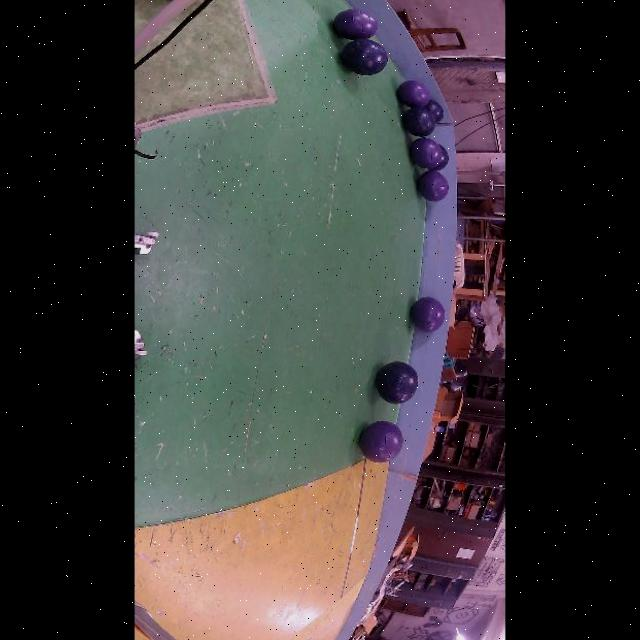B: (374, 362, 417, 404), (340, 39, 387, 75), (401, 107, 435, 137), (429, 145, 448, 171), (424, 100, 442, 123)
P: (358, 421, 402, 462), (331, 8, 377, 40), (409, 297, 444, 332), (409, 137, 441, 169), (417, 171, 448, 202), (396, 80, 429, 107)
